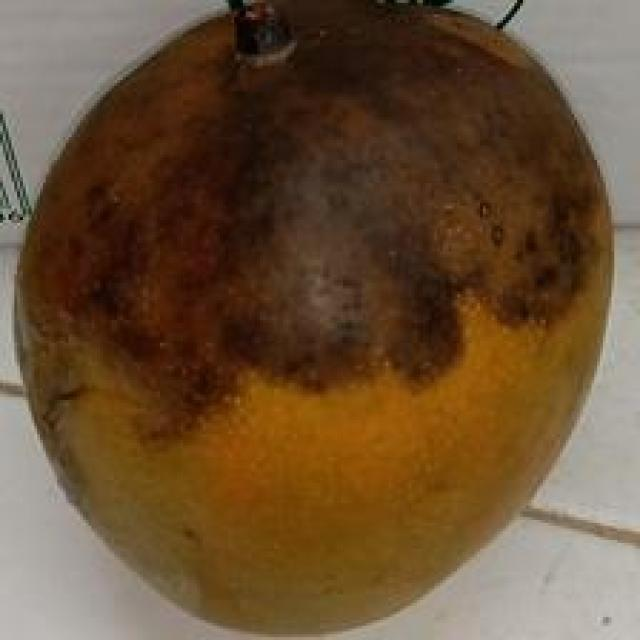Bad_Mango: (19, 0, 612, 632)
